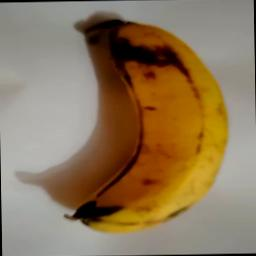Banana Unripe: (64, 9, 237, 234)
